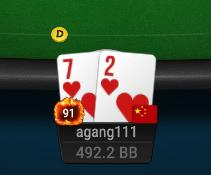2h: (99, 51, 154, 121)
7h: (56, 53, 97, 121)
